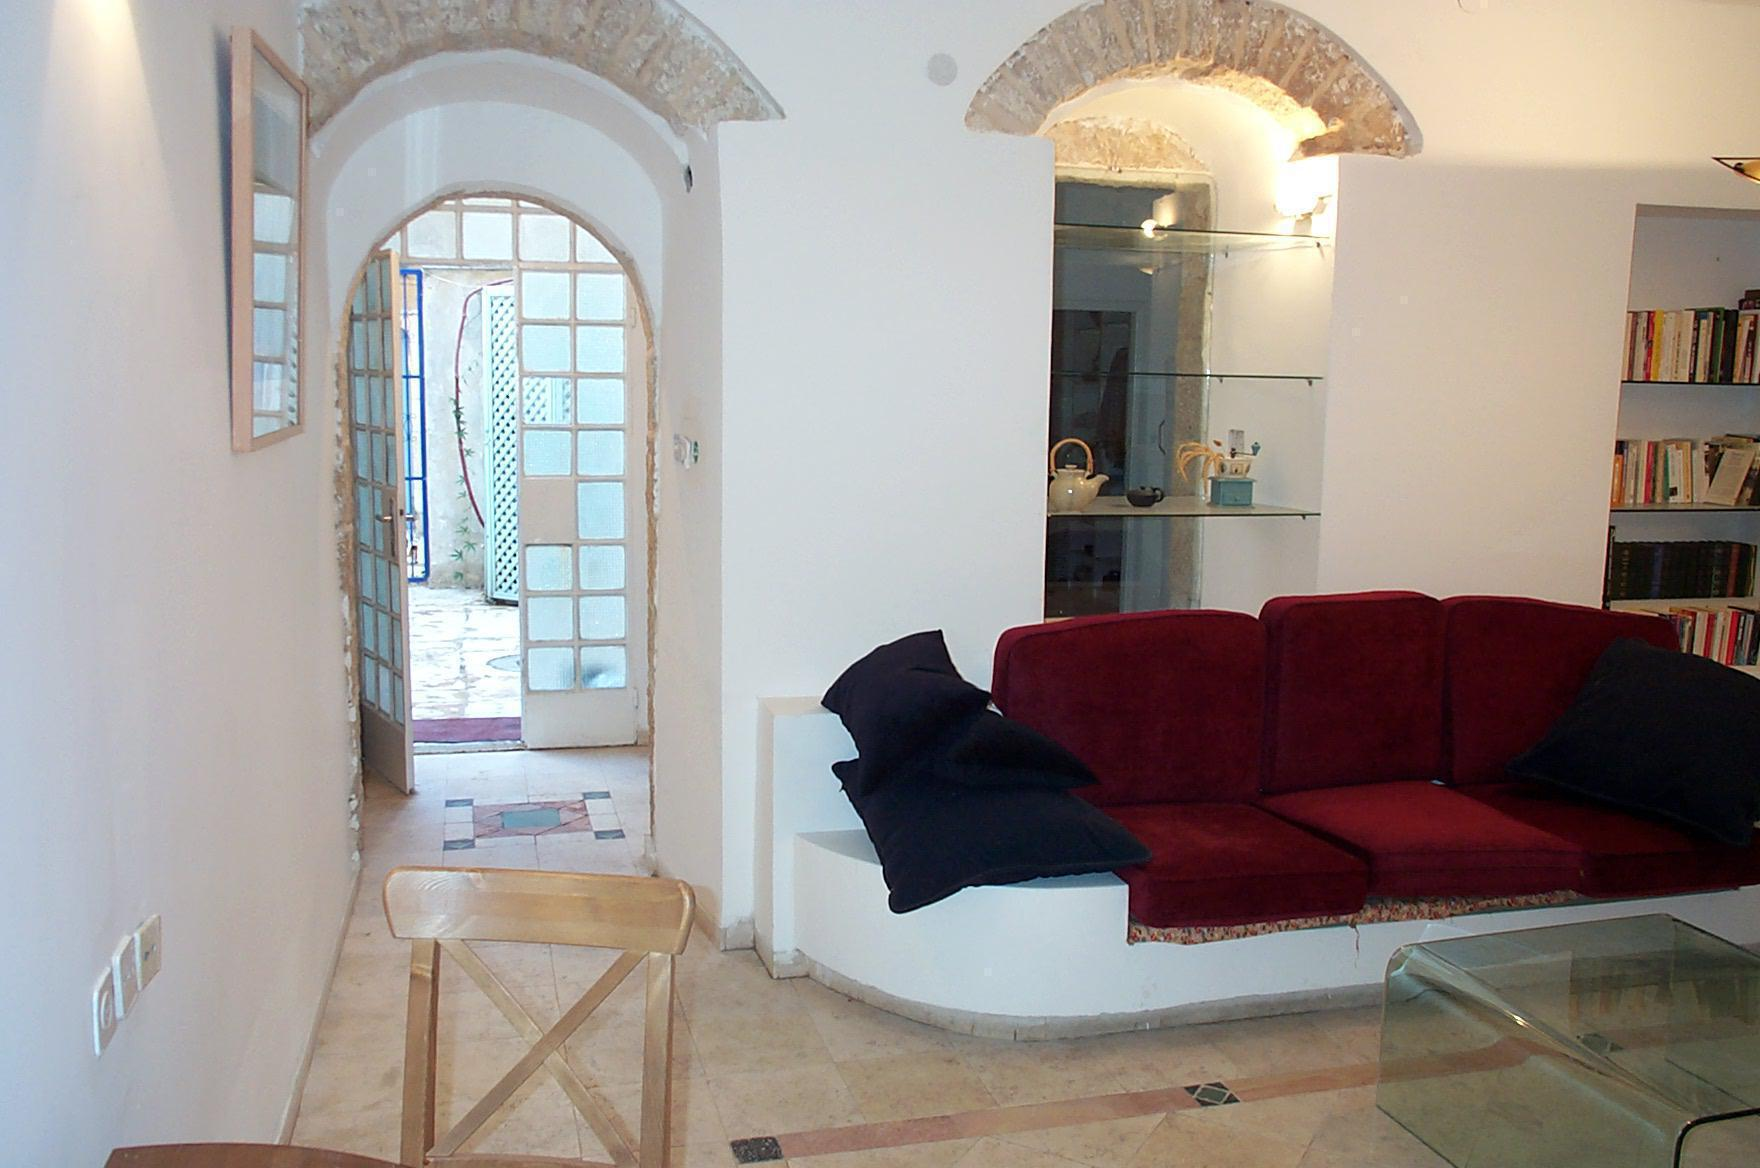Puerta: (344, 252, 641, 800)
